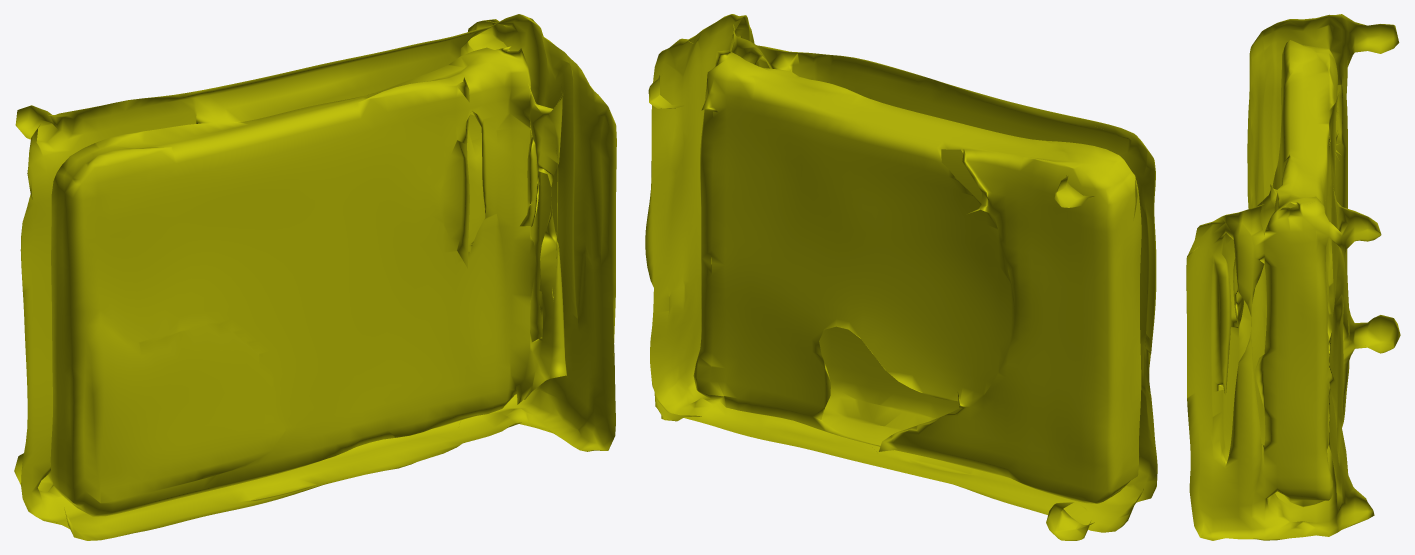
3 views of the same model, side by side, from view 1: azimuth 30°, elevation 25°; view 2: azimuth 150°, elevation 25°; view 3: azimuth 270°, elevation 25° (orthographic). The views are drawn at different scales.
Visible parts, largest first — view 1: world; view 2: world; view 3: world.
Boxes of the visible parts, x1,y1,x2,y2 form: world: (14, 14, 616, 540); world: (645, 14, 1157, 540); world: (1186, 14, 1400, 540).
Bounding box in the file's own units: 39.18 × 29.4 × 16.6.
